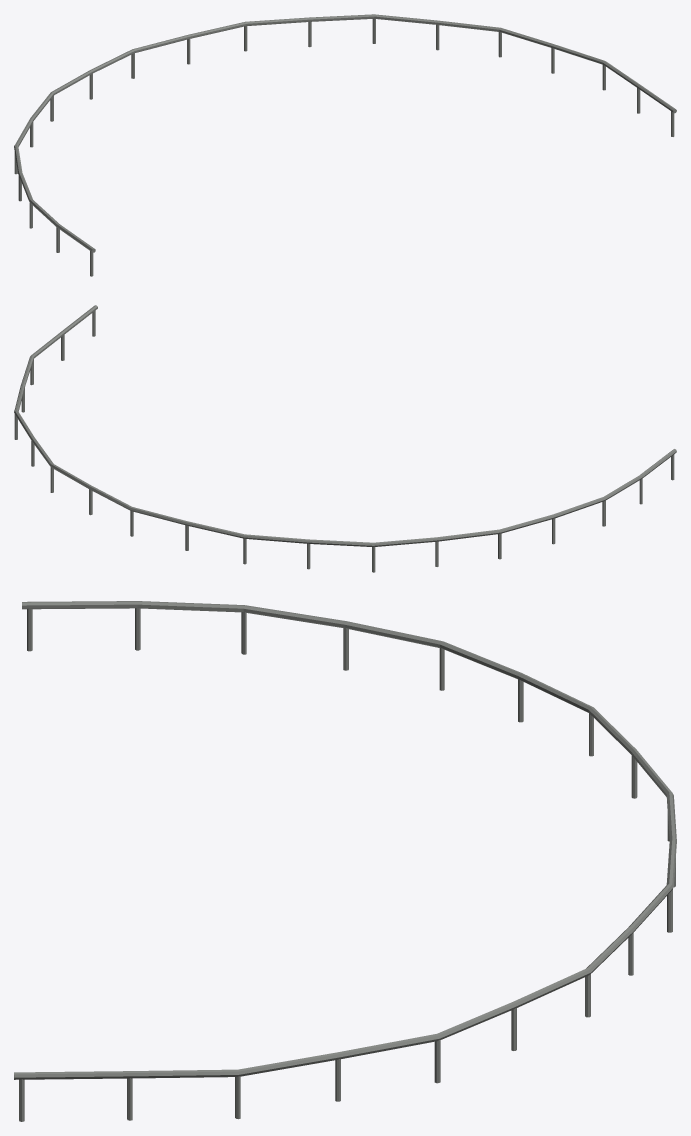
File: Railing_Semi_Circle.glb
The picture shows the model from 3 angles, top to bottom: view 1: azimuth 30°, elevation 25°; view 2: azimuth 150°, elevation 25°; view 3: azimuth 270°, elevation 25°; orthographic projection. The views are drawn at different scales.
Parts seen in each view (by area): view 1: Rail_Semicircle; view 2: Rail_Semicircle; view 3: Rail_Semicircle.
Boxes of the visible parts, left/top/right/bottom form: Rail_Semicircle: left=14, top=14, right=676, bottom=276; Rail_Semicircle: left=14, top=305, right=676, bottom=572; Rail_Semicircle: left=14, top=601, right=676, bottom=1121.
Size of what is drawn, in the model's own units: 17.75 by 0.8385 by 10.48.
1 material, 1 textured.
